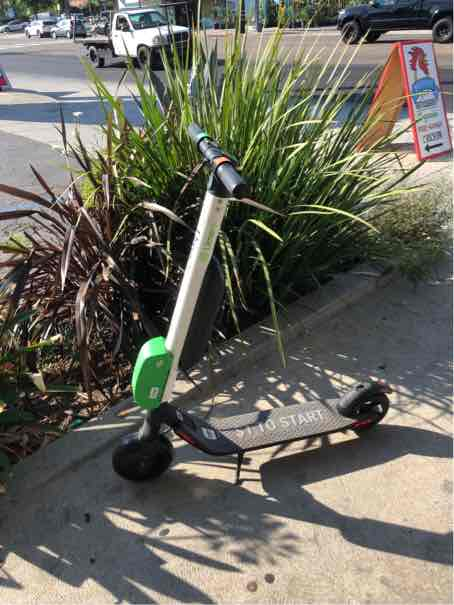scooter: (110, 123, 454, 393)
